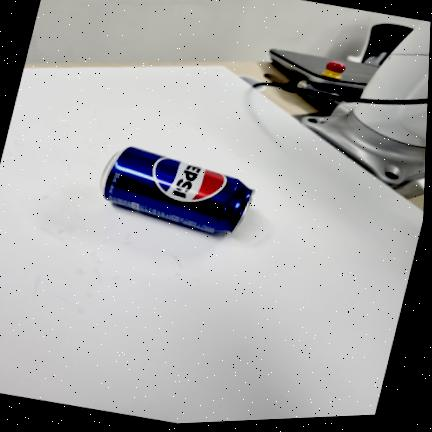can_pepsi: (100, 147, 254, 233)
